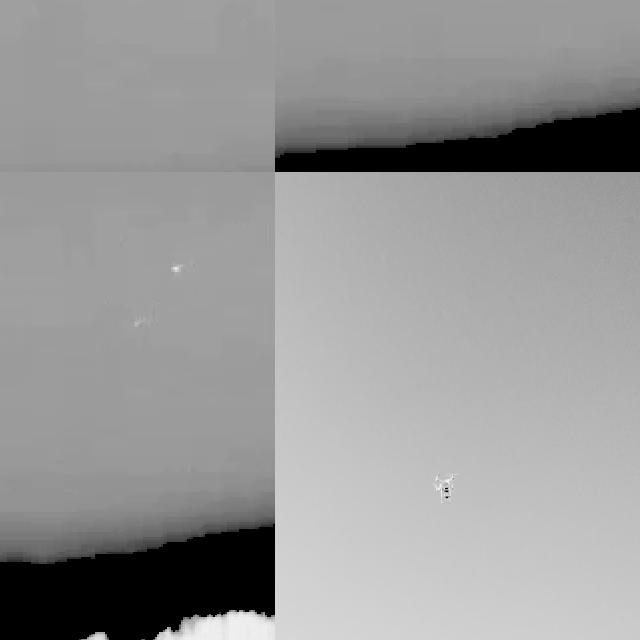0: (121, 307, 151, 342), (160, 261, 182, 283), (111, 0, 133, 11)
drone: (429, 463, 459, 505)
